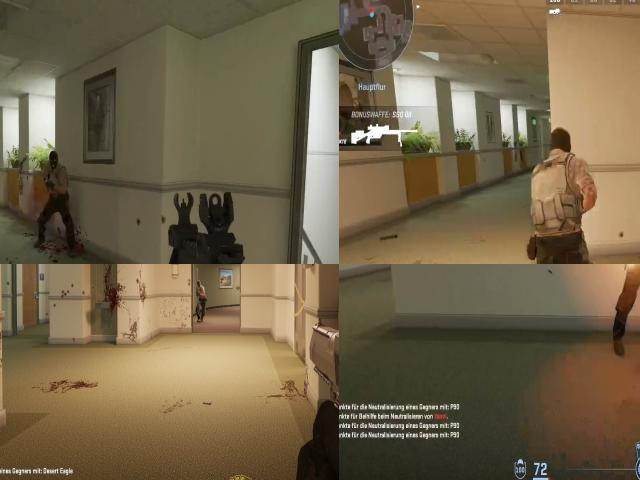T: (513, 128, 597, 264), (43, 149, 70, 208), (195, 280, 207, 321)
T-Head: (541, 121, 581, 163), (46, 151, 62, 169), (197, 280, 203, 289)
